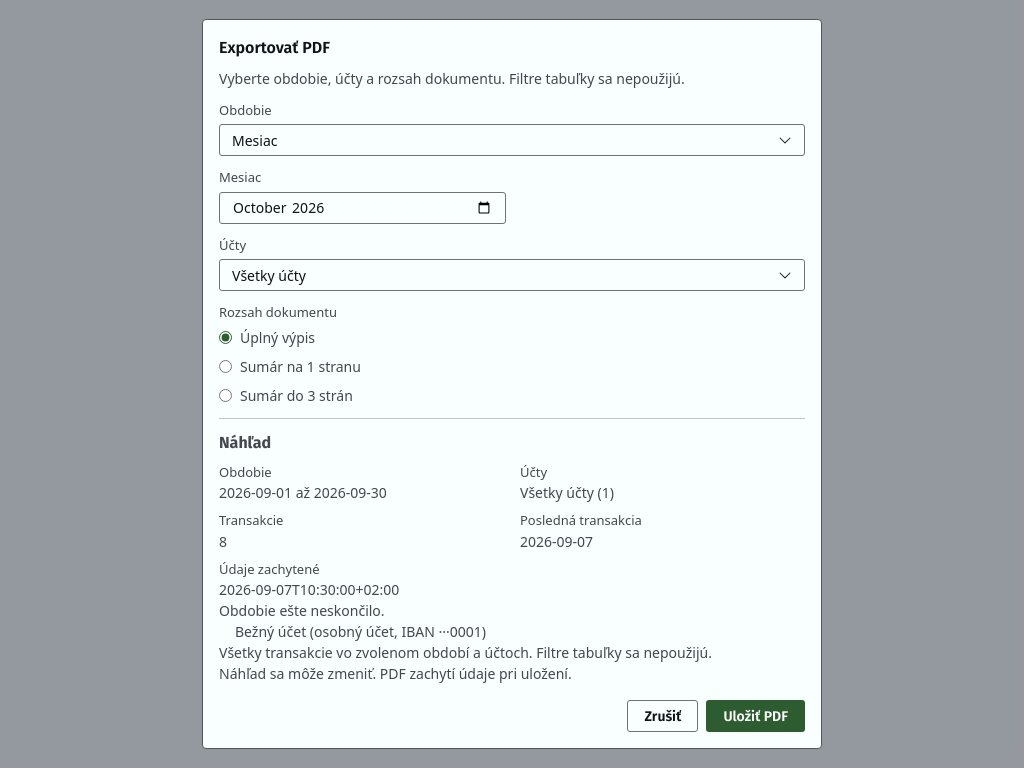
it: ExportPdfDialog: document scope › selecting Sumár na 1 stranu requests that preview and shows the page count
The width and height of the screenshot is (1024, 768).
Check: the heading "Náhľad" is shown, box [219,433,271,452]
Click the radio button labelled "Sumár na 1 stranu" at (226, 366), box [219,360,232,373]
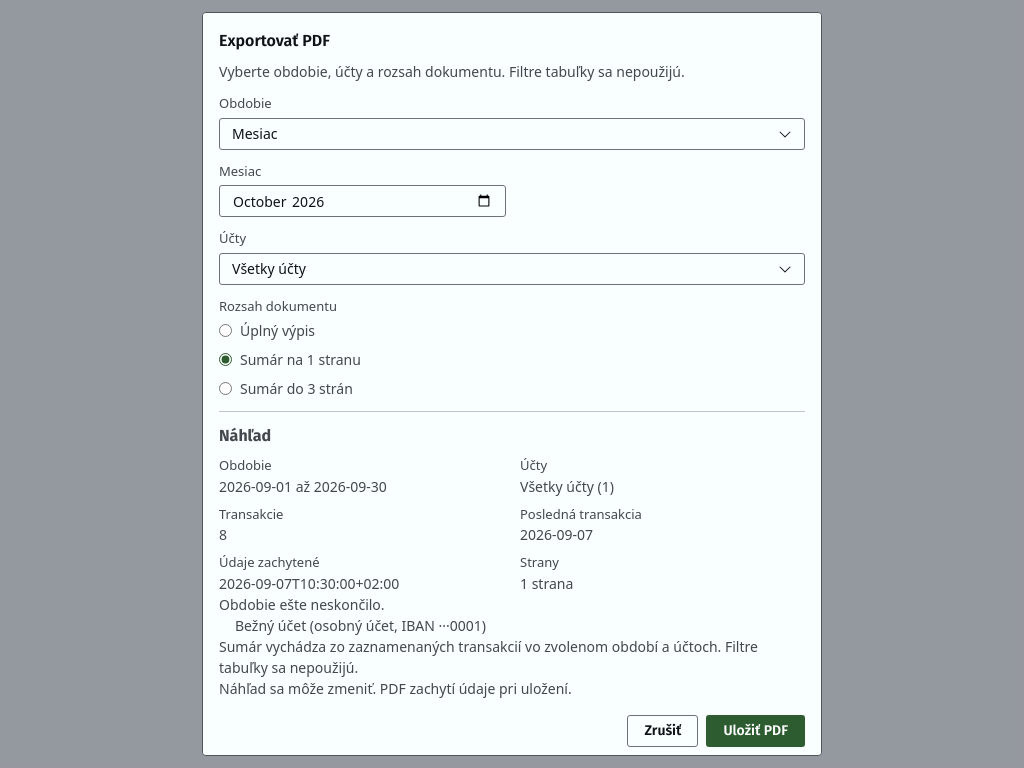
Check: the radio button labelled "Sumár na 1 stranu" is checked, box [219,353,232,366]
Check: the text "1 strana" is shown, box [520,574,573,592]
